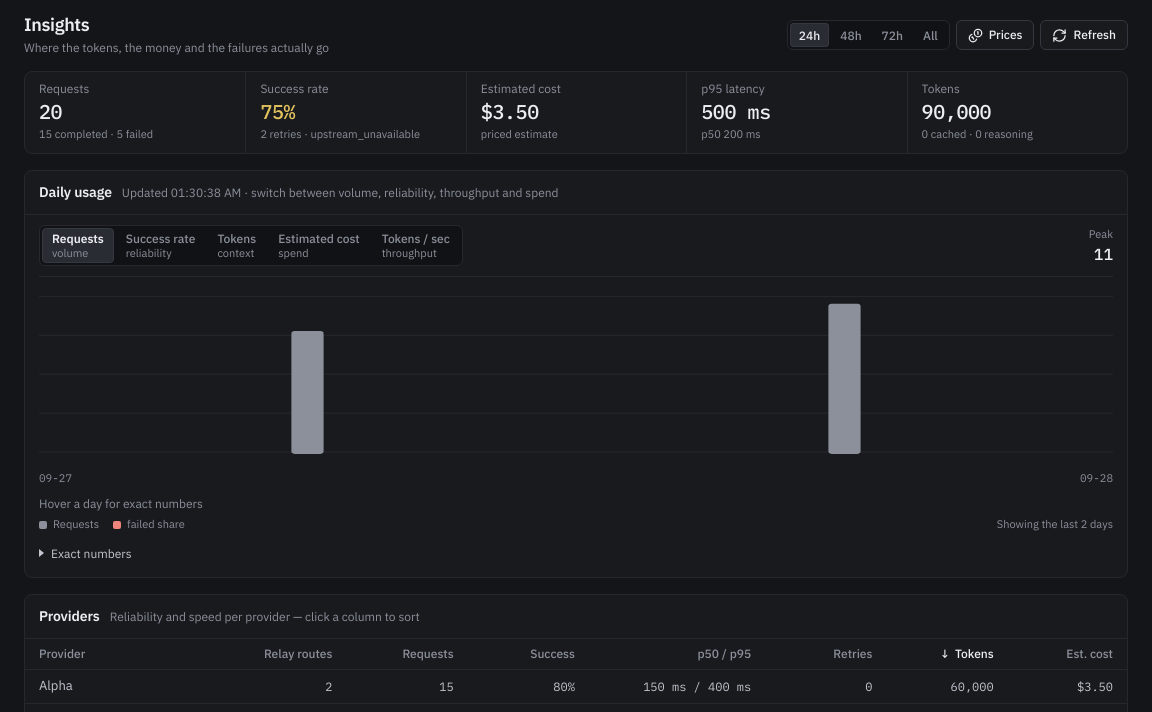
Test: InsightsPage › dismisses the price editor with Escape like every other modal
Click the button "Prices" at (995, 35), box [956,20,1034,50]
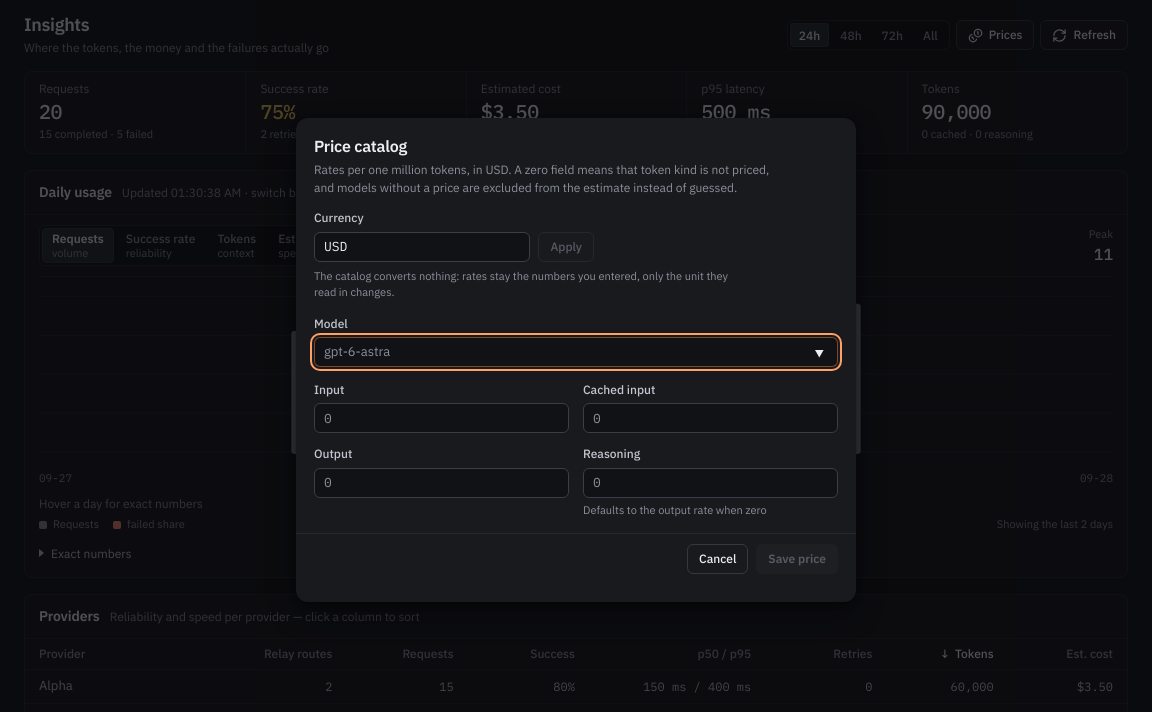
Press Escape in the dialog, box [296,118,856,602]
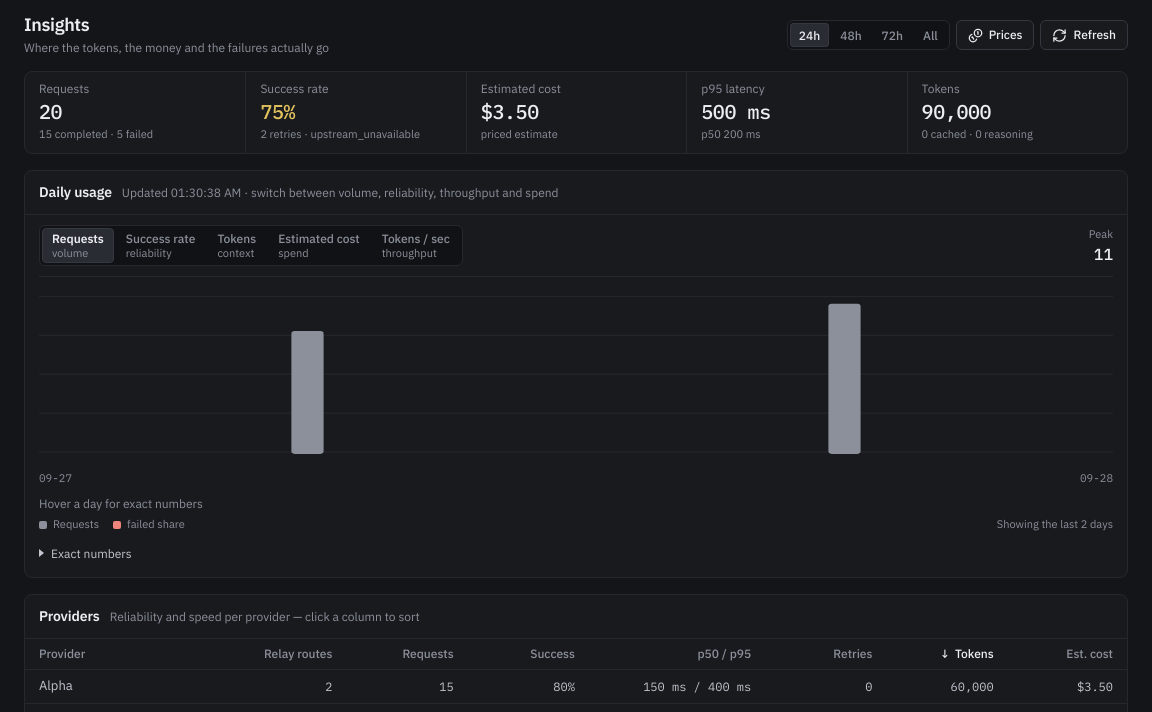
Expected: the dialog is gone
